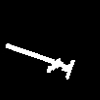double_crochet: (6, 44, 74, 78)
